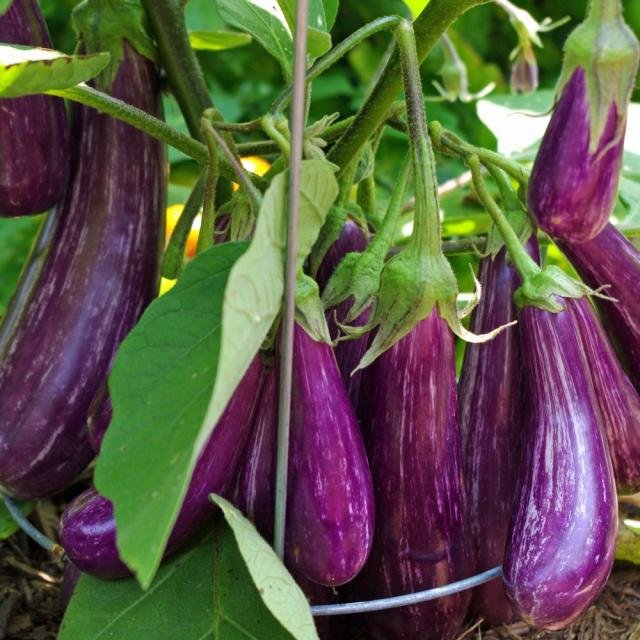Eggplant: (499, 272, 622, 631), (0, 212, 115, 500), (377, 247, 468, 594), (284, 276, 376, 590), (525, 21, 635, 237)
